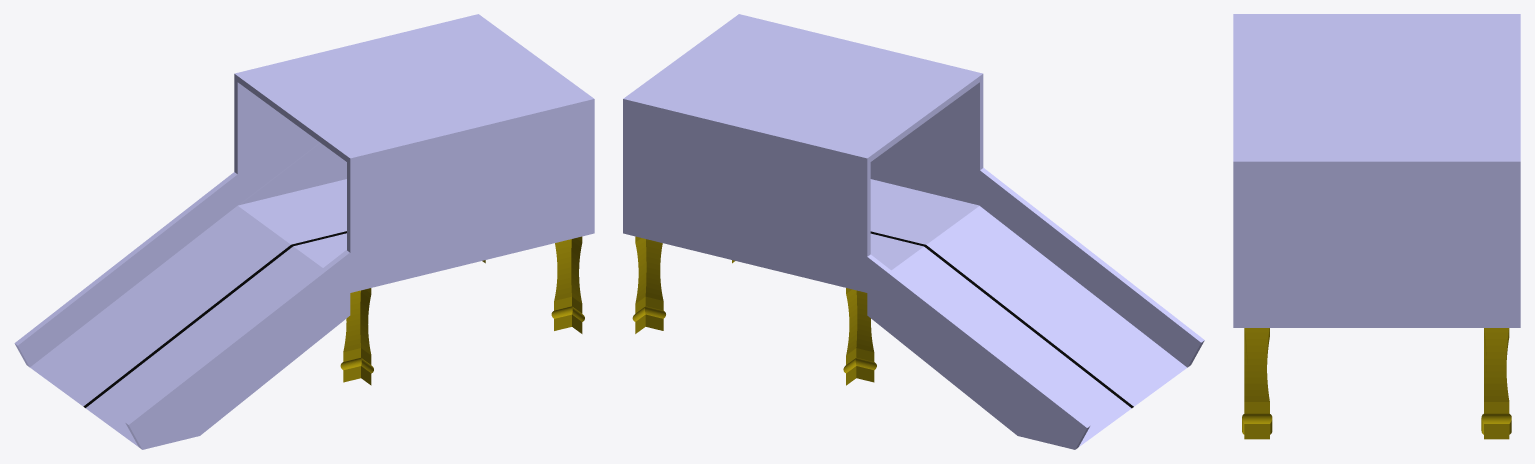
The model's file is CPT (2).glb.
3 views of the same model, side by side, from view 1: azimuth 30°, elevation 25°; view 2: azimuth 150°, elevation 25°; view 3: azimuth 270°, elevation 25° (orthographic). The views are drawn at different scales.
Visible parts, largest first — view 1: Model, Leg2, Leg1; view 2: Model, Leg3, Leg4; view 3: Model, Leg2, Leg3.
Part boxes in pixels (box(x1,y1,x2,y2)): Model: box(14, 14, 594, 449); Leg2: box(551, 236, 584, 333); Leg1: box(340, 288, 373, 385); Model: box(623, 14, 1204, 449); Leg3: box(632, 236, 665, 333); Leg4: box(843, 288, 876, 385); Model: box(1233, 14, 1520, 327); Leg2: box(1242, 328, 1272, 439); Leg3: box(1481, 328, 1511, 439).
Bounding box in the file's own units: 7.67 × 3.79 × 3.31.
